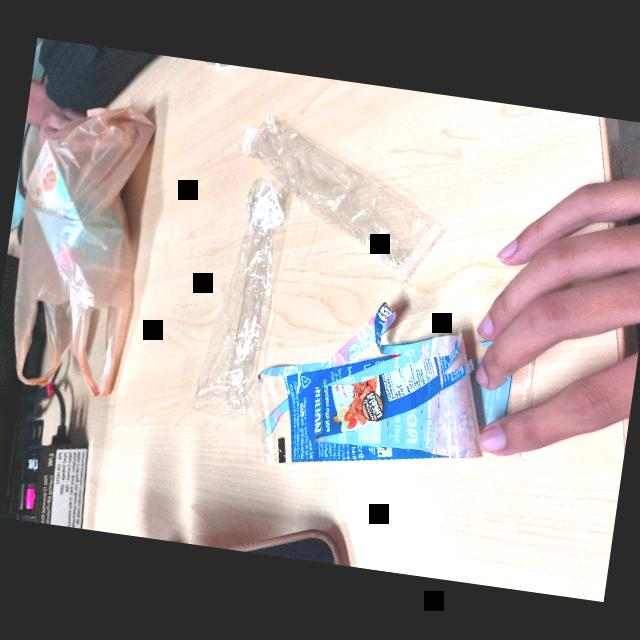scrap_plastic: (239, 298, 539, 508), (232, 101, 456, 283), (184, 180, 292, 434)
